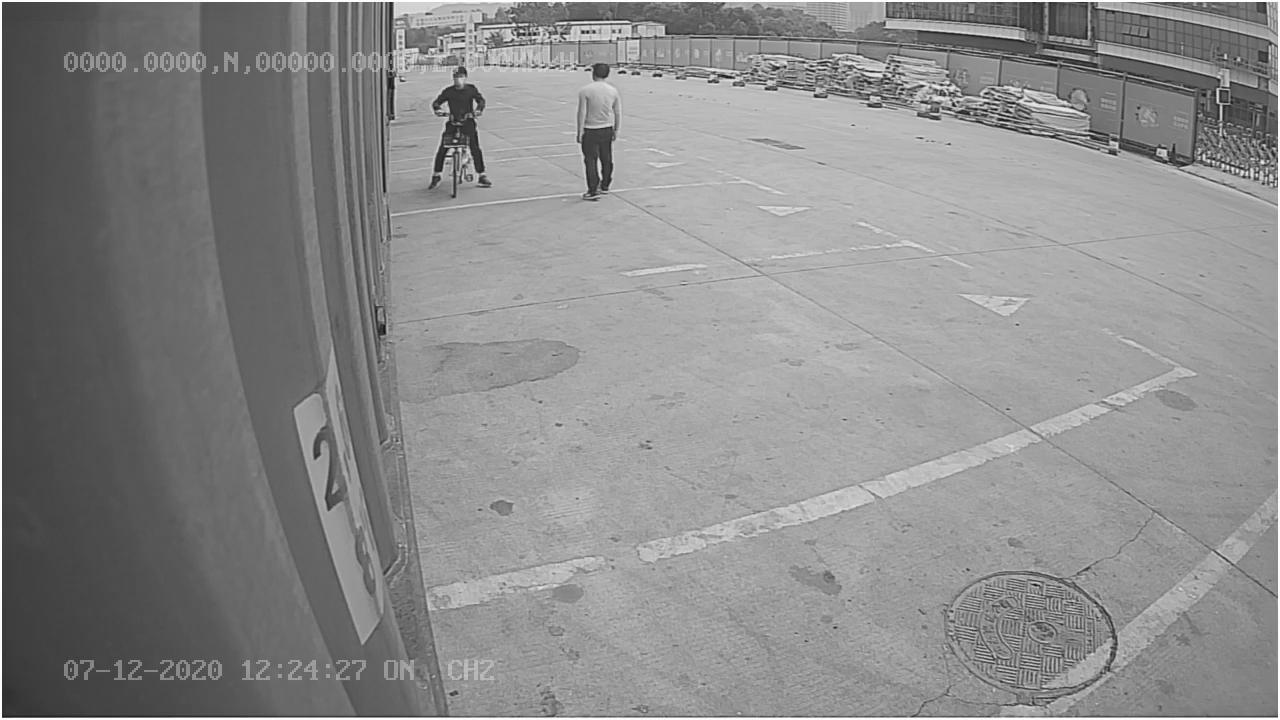person: (570, 60, 623, 204)
